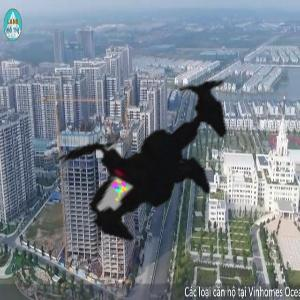drone: (5, 6, 293, 294)
